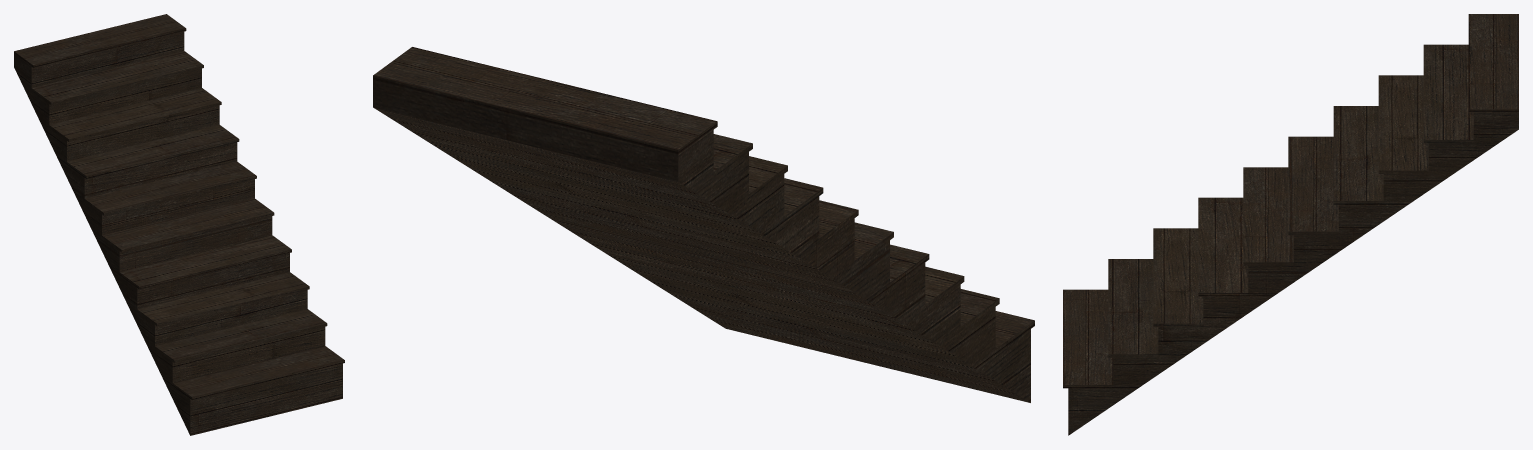
Rendered from stairs_5_wood.obj.
3 renders of one model, left to right at view 1: azimuth 30°, elevation 25°; view 2: azimuth 150°, elevation 25°; view 3: azimuth 270°, elevation 25°, orthographic. The views are drawn at different scales.
Visible parts, largest first — view 1: stairs_5_wood; view 2: stairs_5_wood; view 3: stairs_5_wood.
Part boxes in pixels (bbox=[...]): stairs_5_wood: bbox=[14, 14, 344, 435]; stairs_5_wood: bbox=[373, 47, 1034, 402]; stairs_5_wood: bbox=[1063, 14, 1518, 435].
Size of the model in its own units: 2 by 3.2 by 4.05.
